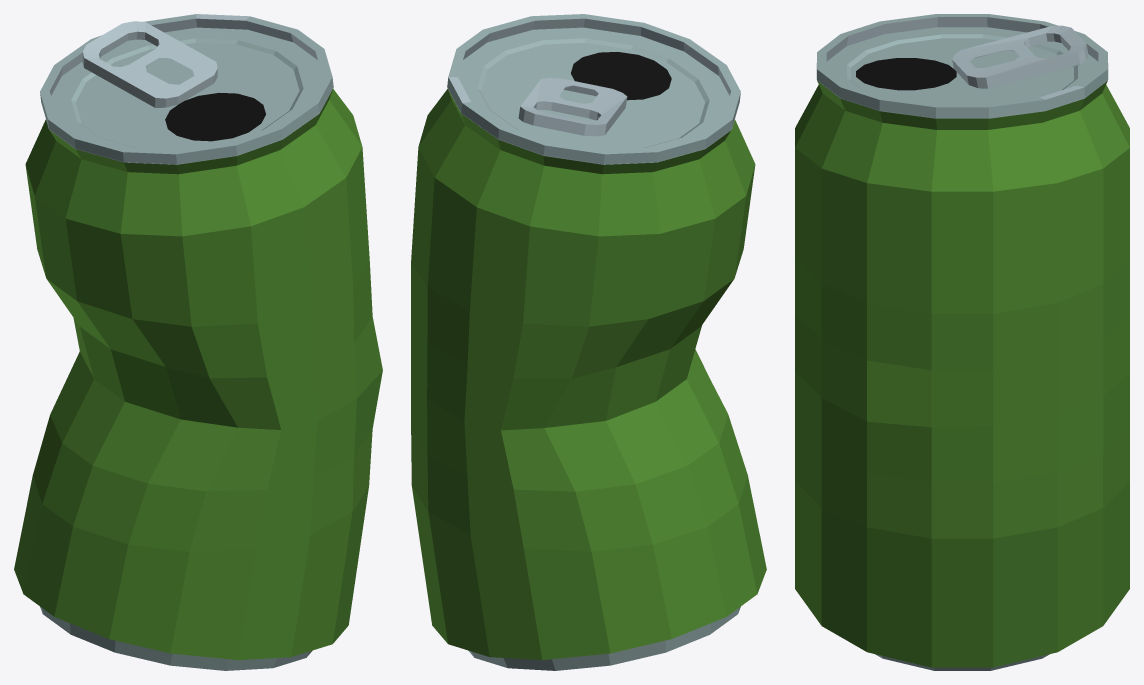
Rendered from can_green.fbx.
The picture shows the model from 3 angles, left to right: view 1: azimuth 30°, elevation 25°; view 2: azimuth 150°, elevation 25°; view 3: azimuth 270°, elevation 25°; orthographic projection.
Visible parts, largest first — view 1: Cube.009; view 2: Cube.009; view 3: Cube.009.
Part boxes in pixels (x1,y1,x2,y2): Cube.009: (14, 14, 382, 670); Cube.009: (411, 14, 766, 670); Cube.009: (795, 14, 1129, 670).
Bounding box in the file's own units: 213 × 377 × 200.
